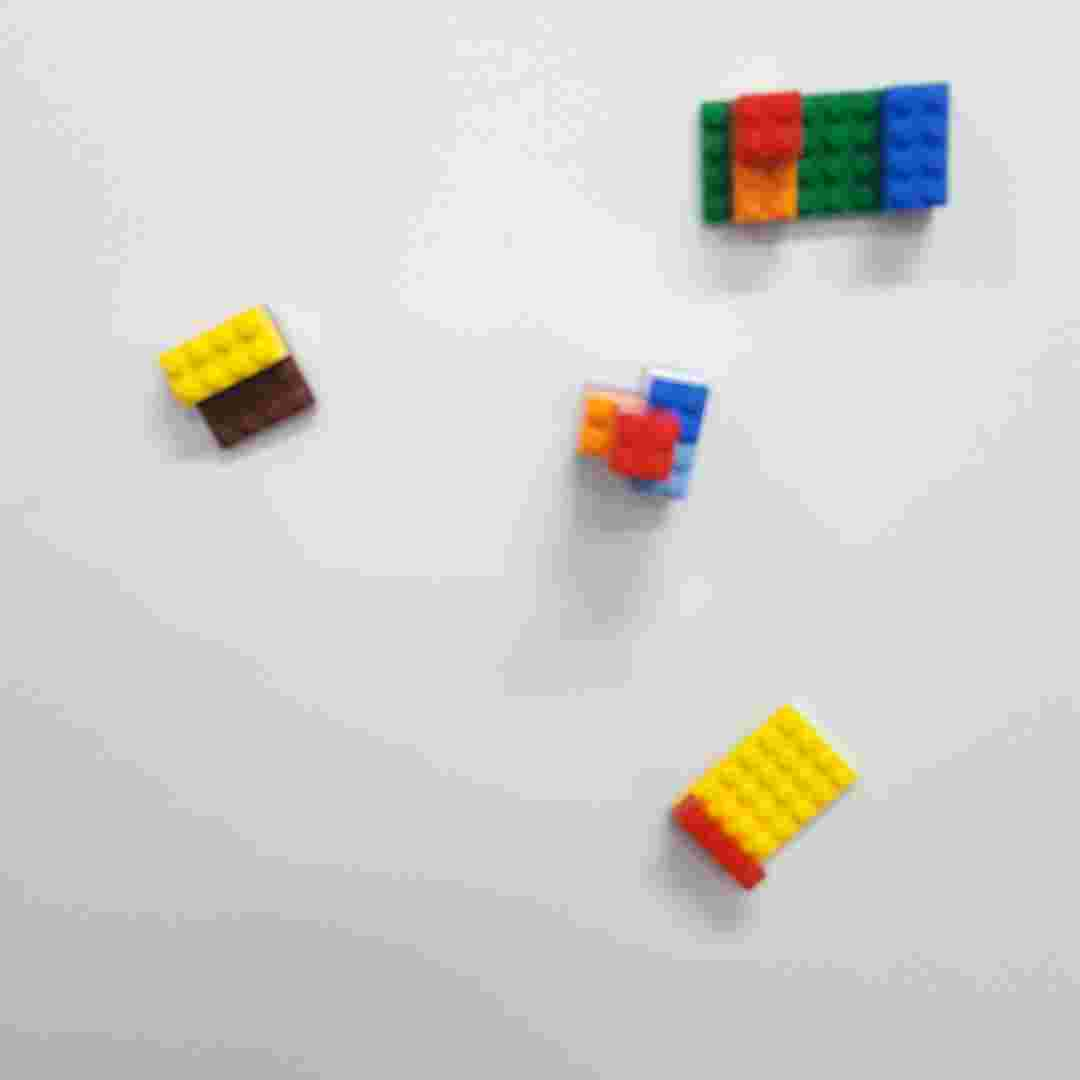LEGO: (692, 78, 955, 234), (664, 697, 865, 893), (153, 302, 323, 452), (574, 370, 718, 503)
